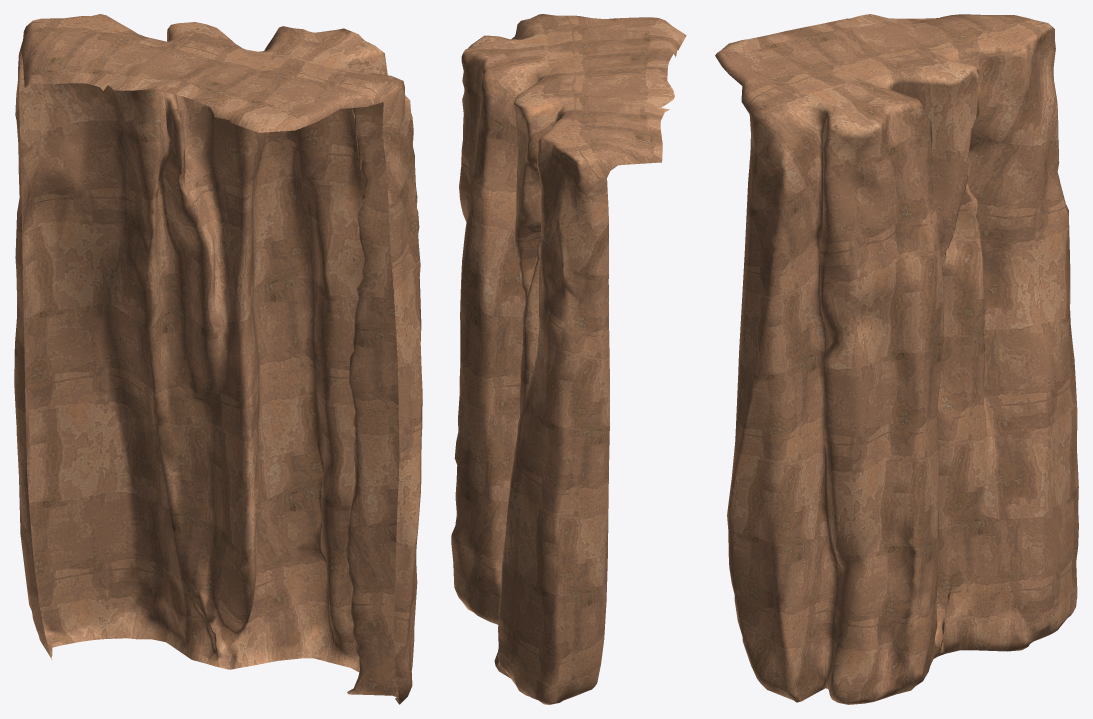
File: Ob_RockCliff06.fbx
3 views of the same model, side by side, from view 1: azimuth 30°, elevation 25°; view 2: azimuth 150°, elevation 25°; view 3: azimuth 270°, elevation 25° (orthographic). The views are drawn at different scales.
Parts seen in each view (by area): view 1: Ob_RockCliff06; view 2: Ob_RockCliff06; view 3: Ob_RockCliff06.
Part boxes in pixels (x1,y1,x2,y2): Ob_RockCliff06: (14, 14, 422, 704); Ob_RockCliff06: (451, 14, 686, 704); Ob_RockCliff06: (715, 14, 1078, 704).
Size of the model in its own units: 47228 by 98432 by 54628.
